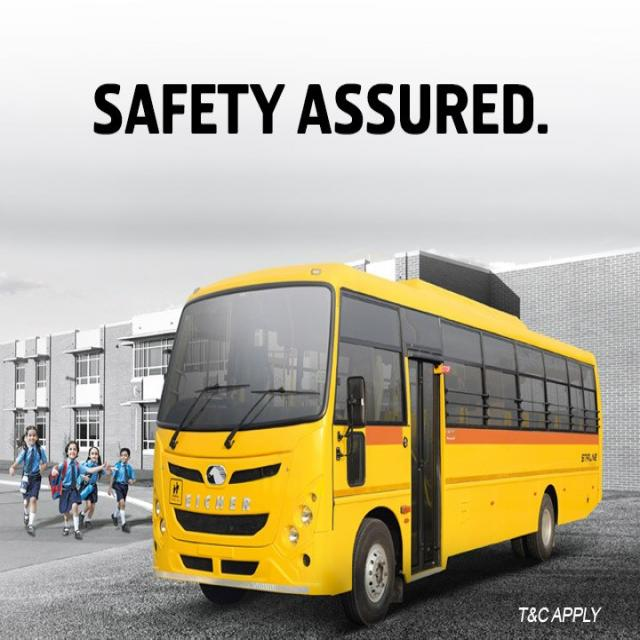bus: (150, 266, 605, 620)
